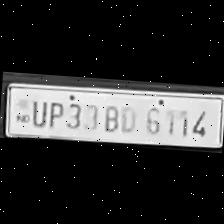1: (160, 102, 176, 136), (174, 104, 190, 136)
3: (63, 97, 83, 130), (82, 98, 100, 131)
4: (188, 105, 210, 136)
6: (140, 102, 163, 136)
B: (99, 101, 122, 133)
P: (44, 98, 64, 128)
U: (27, 97, 47, 127)
